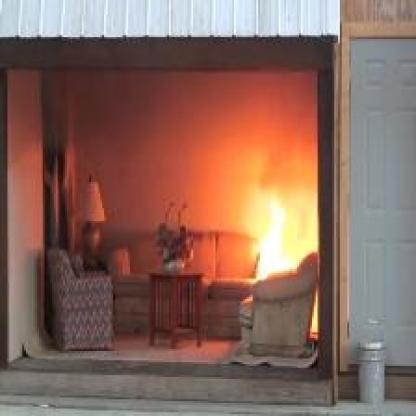fire: (238, 156, 316, 296)
